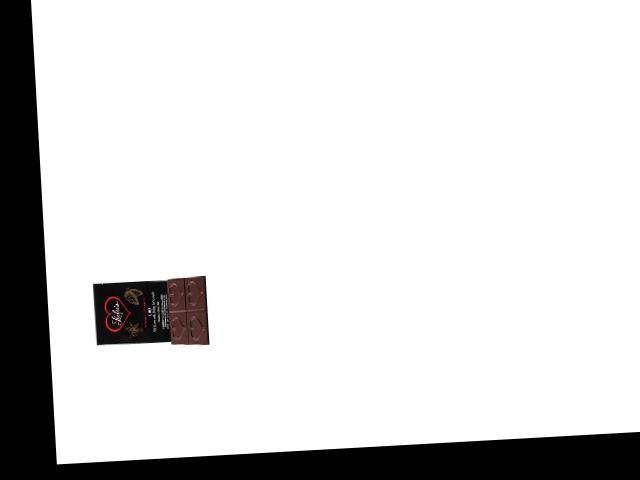chocolate: (92, 273, 214, 356)
